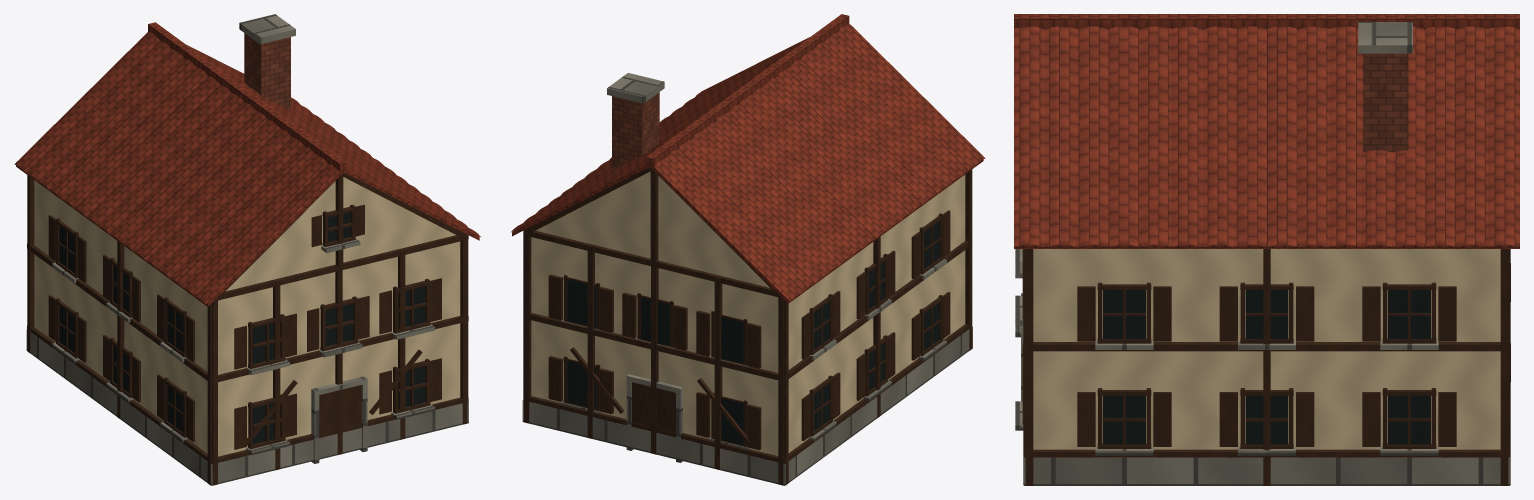
Rendered from SG_House_E_Cottage_LOD0.fbx.
3 views of the same model, side by side, from view 1: azimuth 30°, elevation 25°; view 2: azimuth 150°, elevation 25°; view 3: azimuth 270°, elevation 25° (orthographic). The views are drawn at different scales.
Visible parts, largest first — view 1: SG_House_E_Cottage_Detail0; view 2: SG_House_E_Cottage_Detail0; view 3: SG_House_E_Cottage_Detail0.
Boxes of the visible parts, bbox=[...] form: SG_House_E_Cottage_Detail0: bbox=[14, 14, 481, 485]; SG_House_E_Cottage_Detail0: bbox=[511, 14, 985, 485]; SG_House_E_Cottage_Detail0: bbox=[1014, 14, 1519, 485].
Size of the model in its own units: 17.65 by 19.25 by 21.3.
